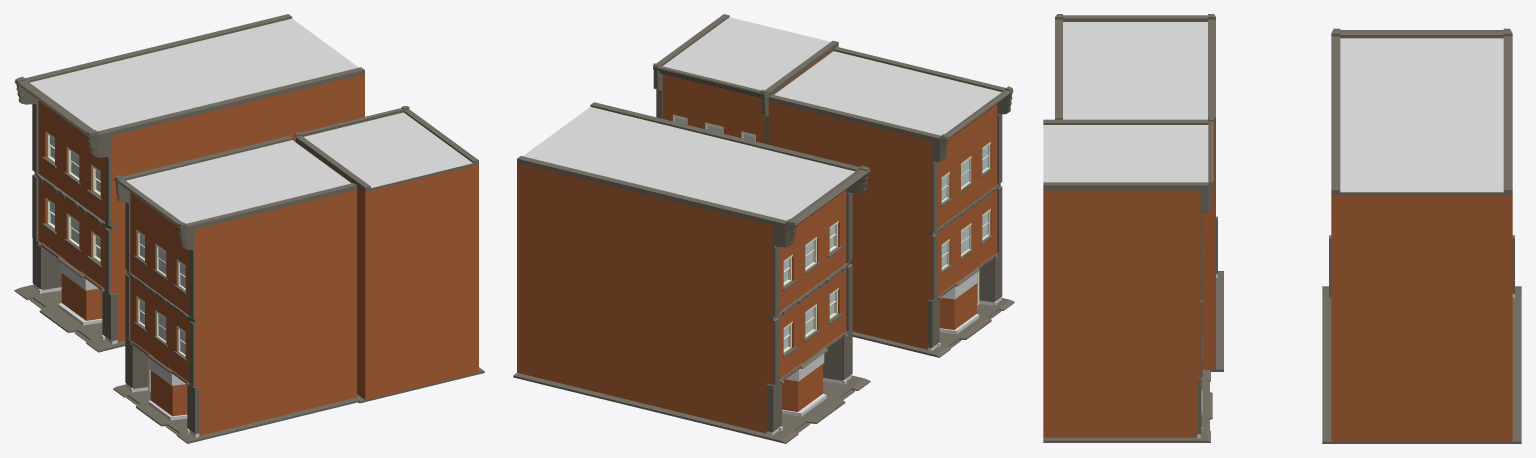
File: Building2.fbx
3 views of the same model, side by side, from view 1: azimuth 30°, elevation 25°; view 2: azimuth 150°, elevation 25°; view 3: azimuth 270°, elevation 25° (orthographic). The views are drawn at different scales.
Parts seen in each view (by area): view 1: Cube.061, Cube.065, Cube.068; view 2: Cube.065, Cube.061, Cube.068; view 3: Cube.065, Cube.068, Cube.061.
Part boxes in pixels (x1,y1,x2,y2): Cube.061: [113, 136, 357, 443]; Cube.065: [14, 14, 364, 352]; Cube.068: [295, 106, 484, 403]; Cube.065: [513, 102, 870, 443]; Cube.061: [768, 47, 1014, 357]; Cube.068: [653, 14, 838, 144]; Cube.065: [1322, 28, 1521, 443]; Cube.068: [1043, 117, 1213, 442]; Cube.061: [1055, 14, 1223, 371].
Bounding box in the file's own units: 1624 × 1122 × 1889.
